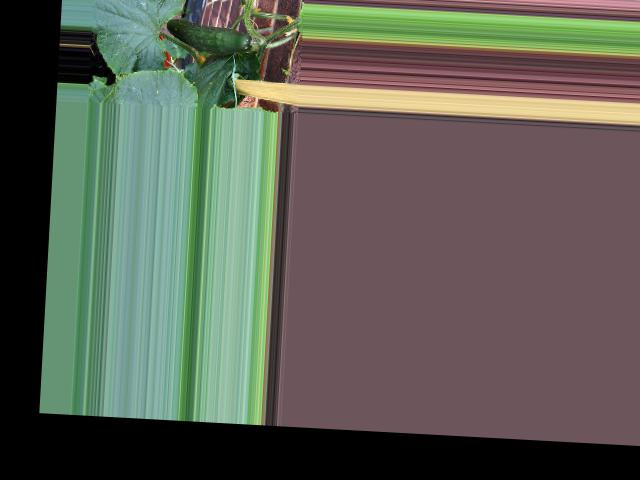cucumber: (165, 17, 253, 55)
